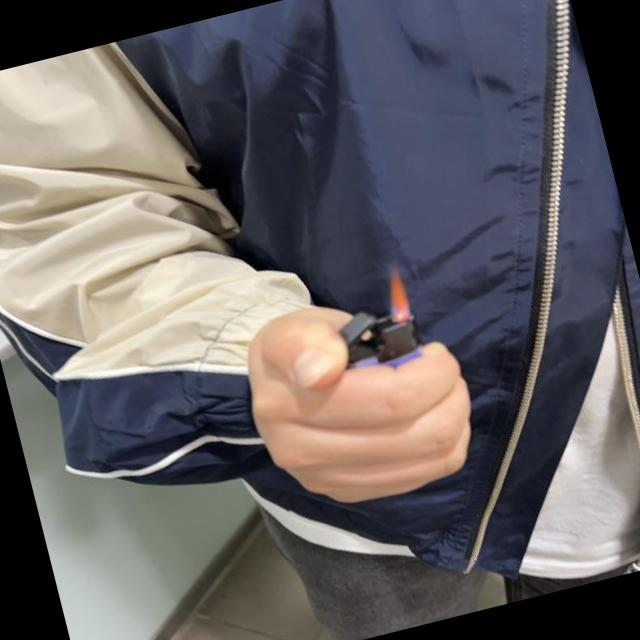Fire: (379, 262, 414, 322)
